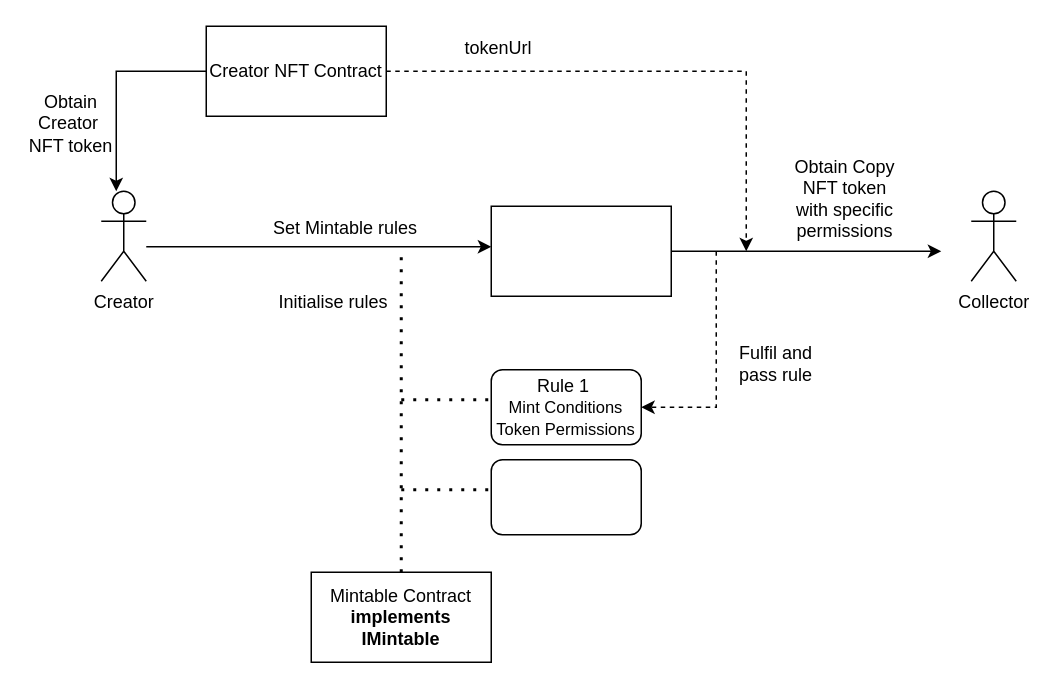
Image size: 1055x689. Some labels were removed from this diagram. Here are the shapes that lost their labels. From the top down, the centre of each, then its label:
At point 580,250: "Copy NFT Contract implements IERC721Copy".
At point 565,496: "Rule 2 Mint Conditions Token Permissions".
